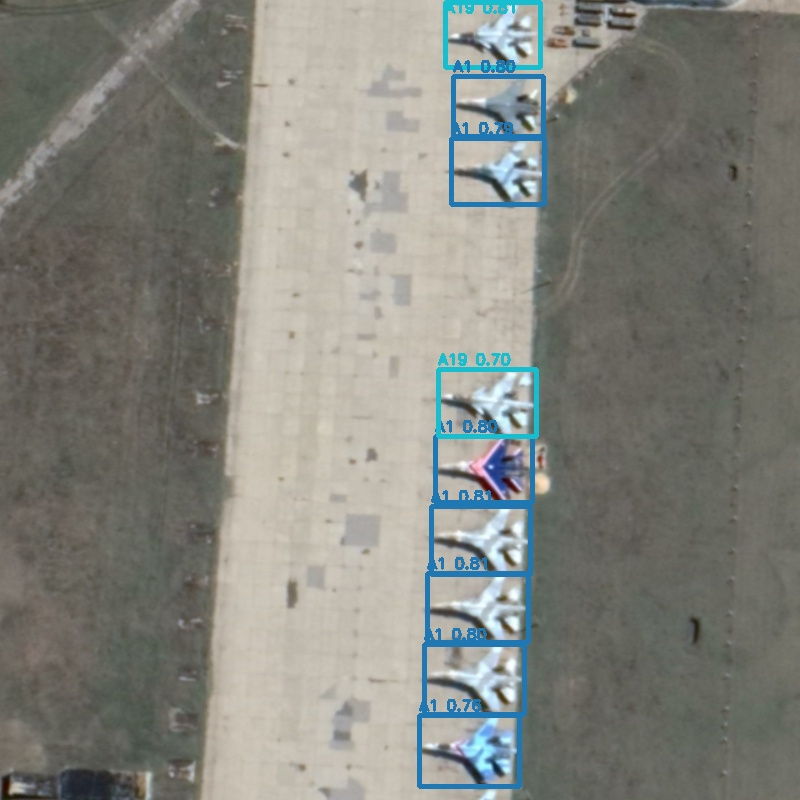A1: (419, 715, 519, 786), (424, 644, 524, 714), (427, 573, 528, 642), (431, 506, 530, 574), (435, 436, 532, 502), (451, 138, 544, 204), (453, 76, 543, 136)
A19: (438, 369, 536, 436), (445, 2, 540, 67)
